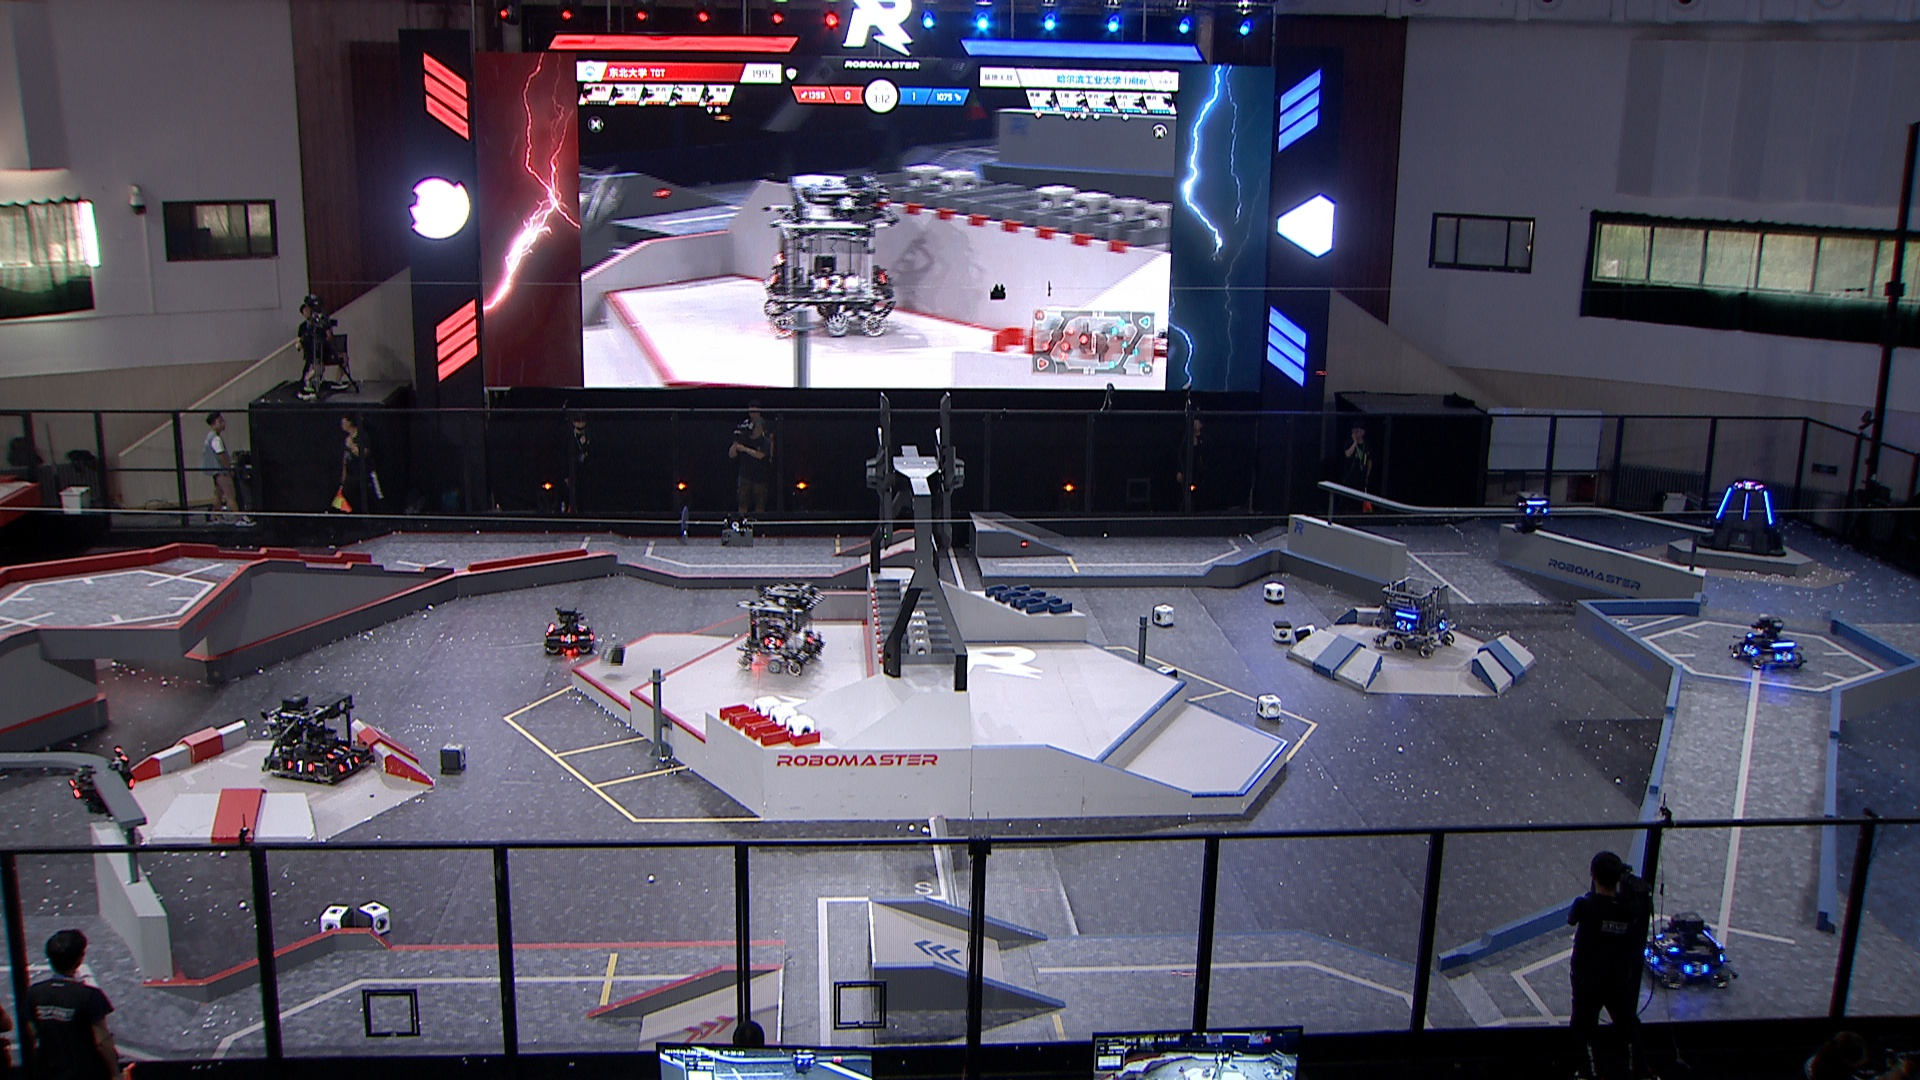armor: (1760, 491, 1778, 531), (1684, 957, 1712, 982), (1652, 930, 1681, 953), (1712, 488, 1731, 520), (284, 756, 316, 774), (65, 774, 86, 802), (323, 742, 351, 761), (1638, 944, 1659, 968), (334, 756, 359, 775), (1523, 502, 1549, 520), (1774, 647, 1795, 666), (1738, 638, 1756, 657), (1433, 615, 1453, 632), (764, 636, 785, 651), (1395, 617, 1414, 633), (1741, 493, 1750, 522), (558, 633, 579, 645), (575, 618, 591, 633)
base: (1698, 473, 1792, 560)
car: (253, 694, 376, 787), (732, 574, 828, 675), (1636, 907, 1735, 992), (1367, 568, 1461, 655), (1731, 612, 1807, 674), (543, 603, 597, 655)
ignore: (764, 167, 905, 338), (1733, 477, 1764, 491)
watcher: (62, 745, 142, 822), (1509, 489, 1553, 535)
